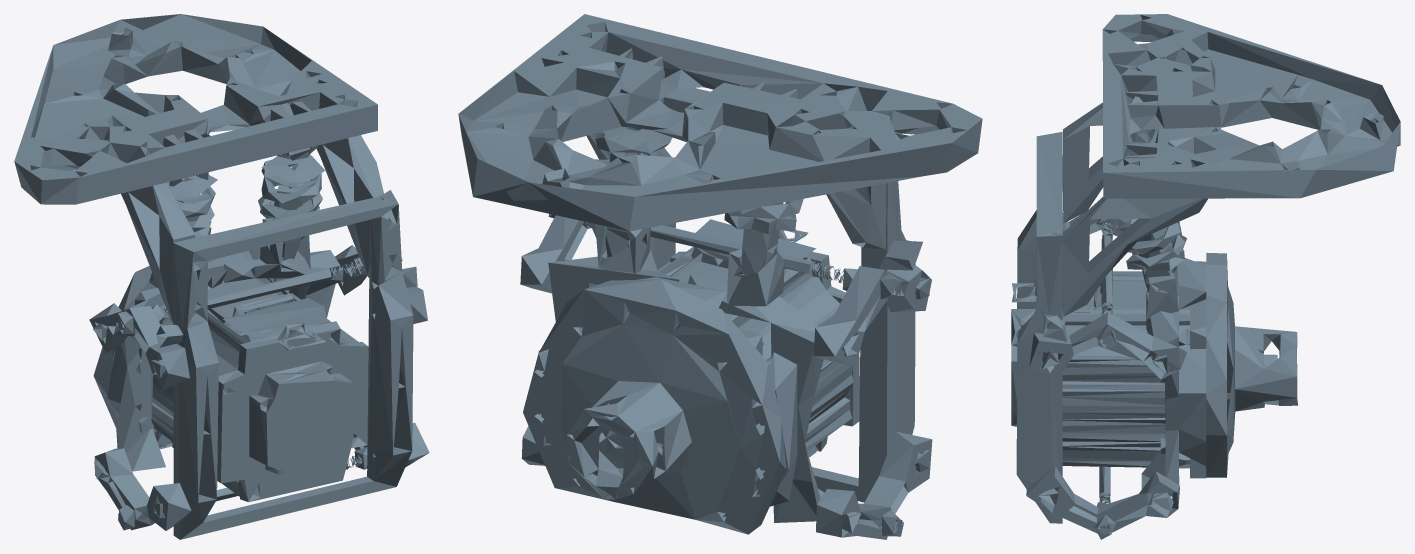
Rendered from steer_RL.dae.
The picture shows the model from 3 angles, left to right: view 1: azimuth 30°, elevation 25°; view 2: azimuth 150°, elevation 25°; view 3: azimuth 270°, elevation 25°; orthographic projection. The views are drawn at different scales.
Visible parts, largest first — view 1: node; view 2: node; view 3: node.
Part boxes in pixels (bbox=[...]): node: bbox=[14, 14, 429, 539]; node: bbox=[458, 14, 982, 539]; node: bbox=[1011, 14, 1400, 539].
Size of the model in its own units: 0.3096 by 0.2997 by 0.3061.
